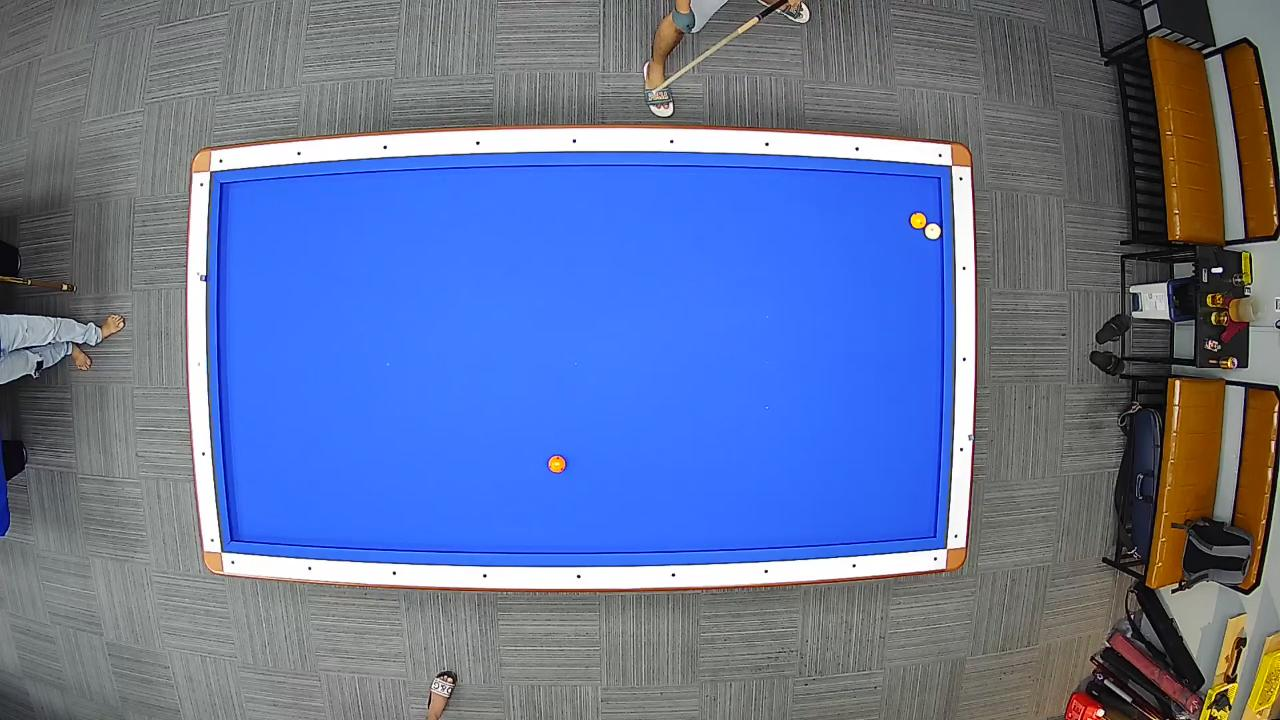Orange: (546, 454, 568, 475)
White: (924, 223, 942, 241)
Yellow: (908, 212, 926, 230)
